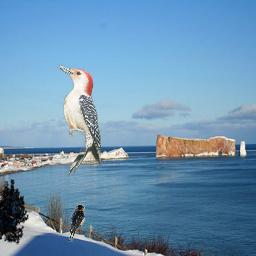Swallow: (68, 204, 85, 242)
Woodpecker: (56, 64, 101, 177)
